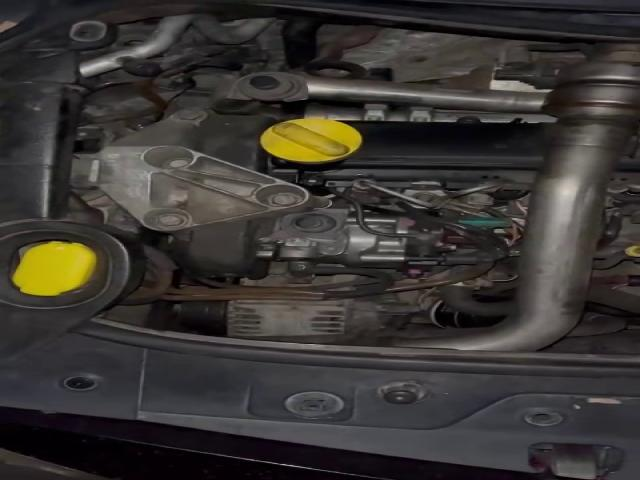alternator: (224, 292, 425, 337)
high_pressure_pump: (276, 215, 457, 278)
